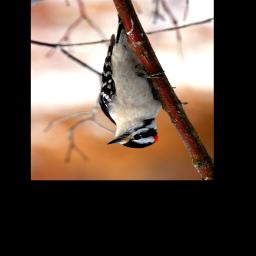Woodpecker: (99, 14, 166, 149)
